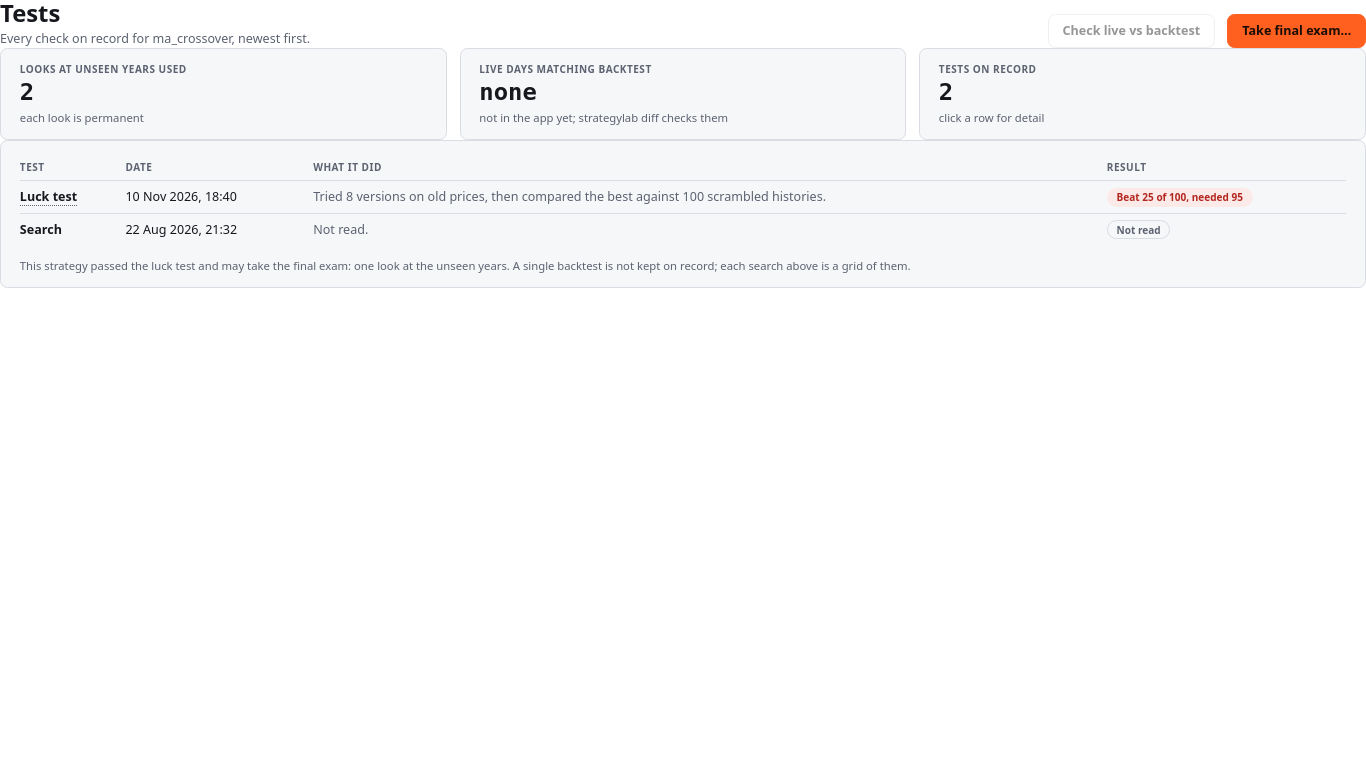
Scenario: the final exam › opens with the looks used so far, and starts only once the phrase is typed
This screenshot has width=1366, height=768.
Later steps or results of the test are not shown.
Click the button "Take final exam…".
click(1297, 31)  # box [1228, 14, 1365, 48]
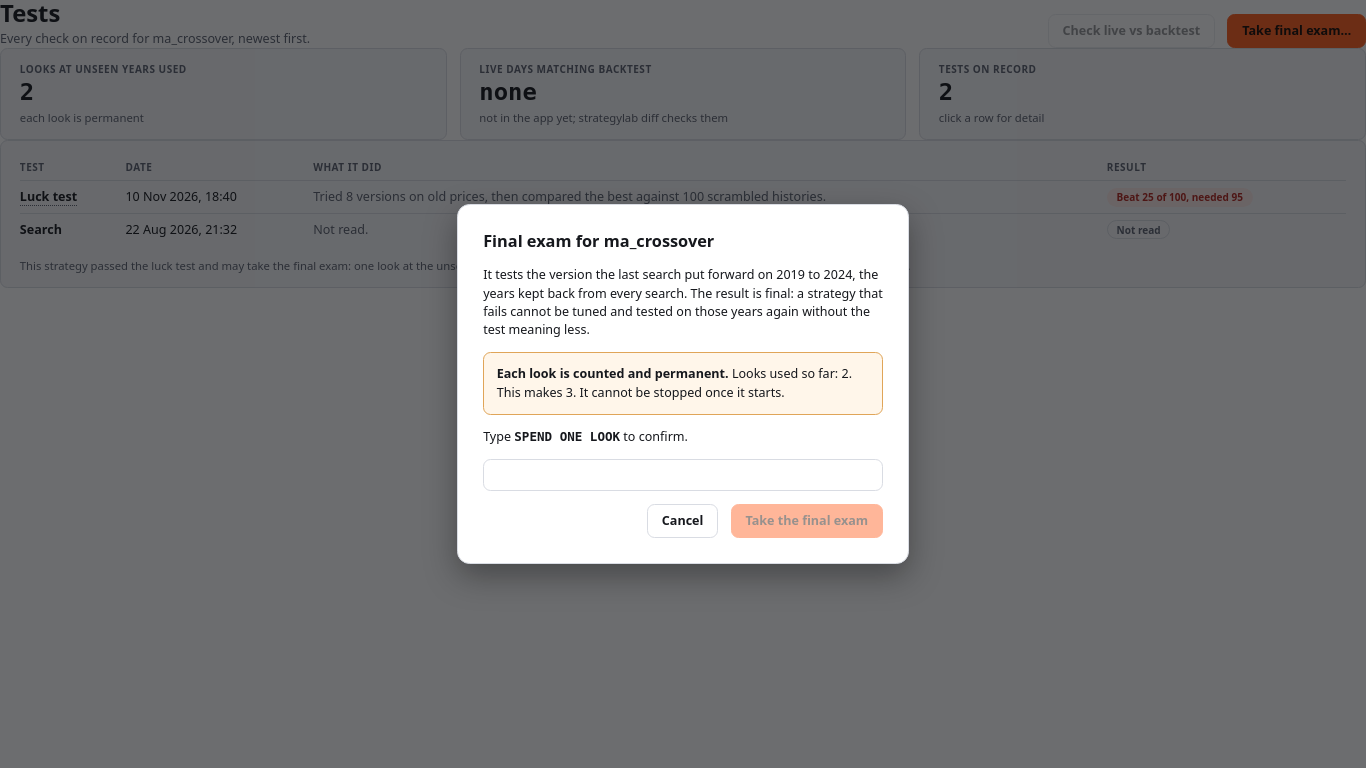
Check: the text "Looks used so far: 2. This makes 3." is shown, box [483, 352, 883, 415]
Check: the button "Take the final exam" is disabled, box [731, 504, 883, 538]
Type "ma_crossover" into the field named "Confirmation phrase".
click(683, 475); type("ma_crossover")  # box [483, 458, 883, 491]
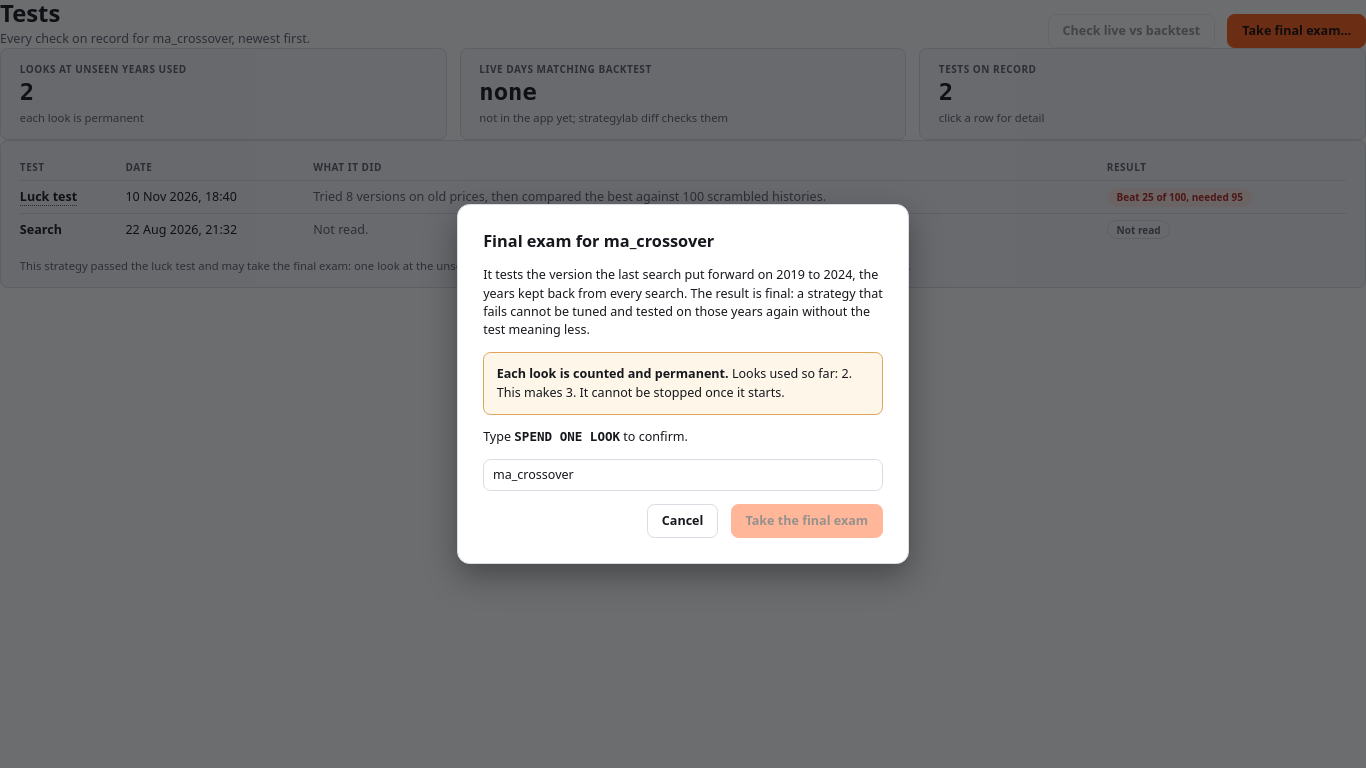
Check: the button "Take the final exam" is disabled, box [731, 504, 883, 538]
